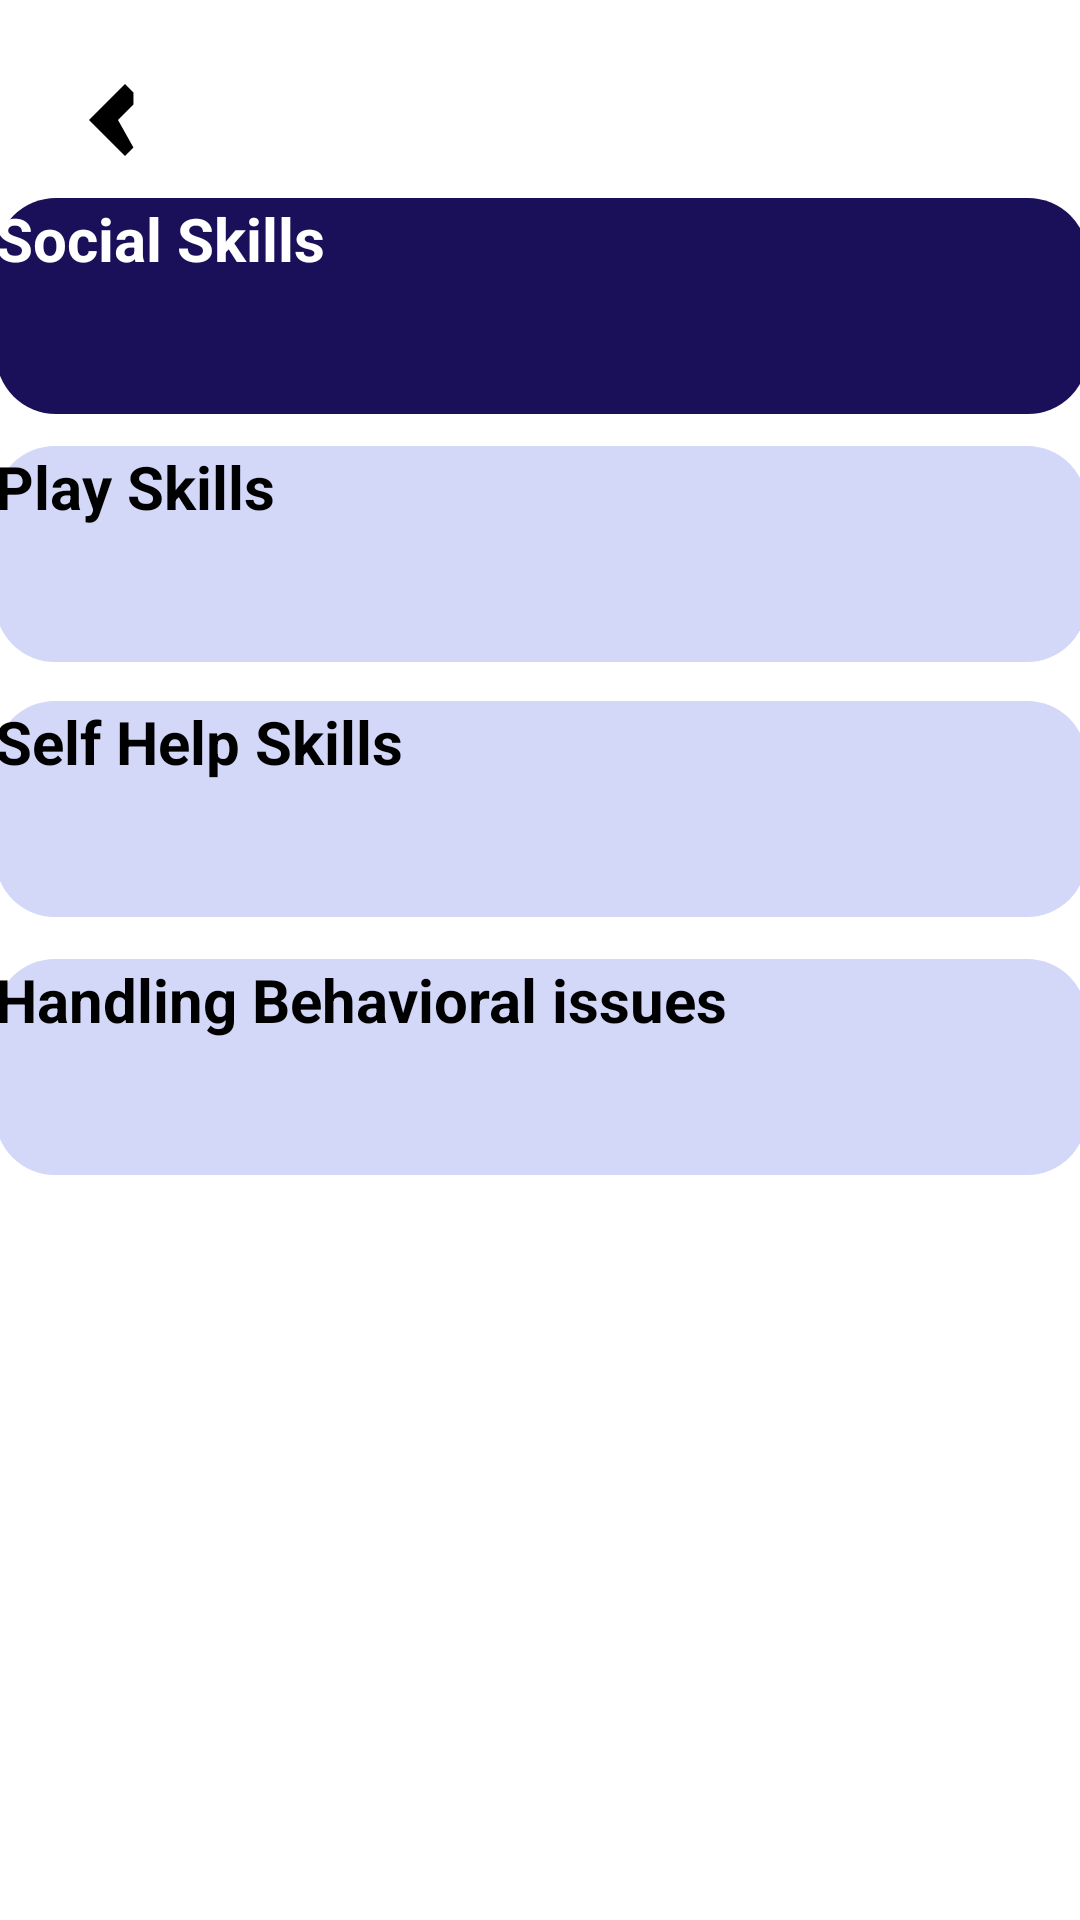

Point at icon controls on the screen. Image size 1080 x 1920, points as point (x, y).
back: point (111, 120)
